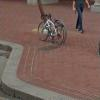Bicycle: (35, 11, 67, 49)
